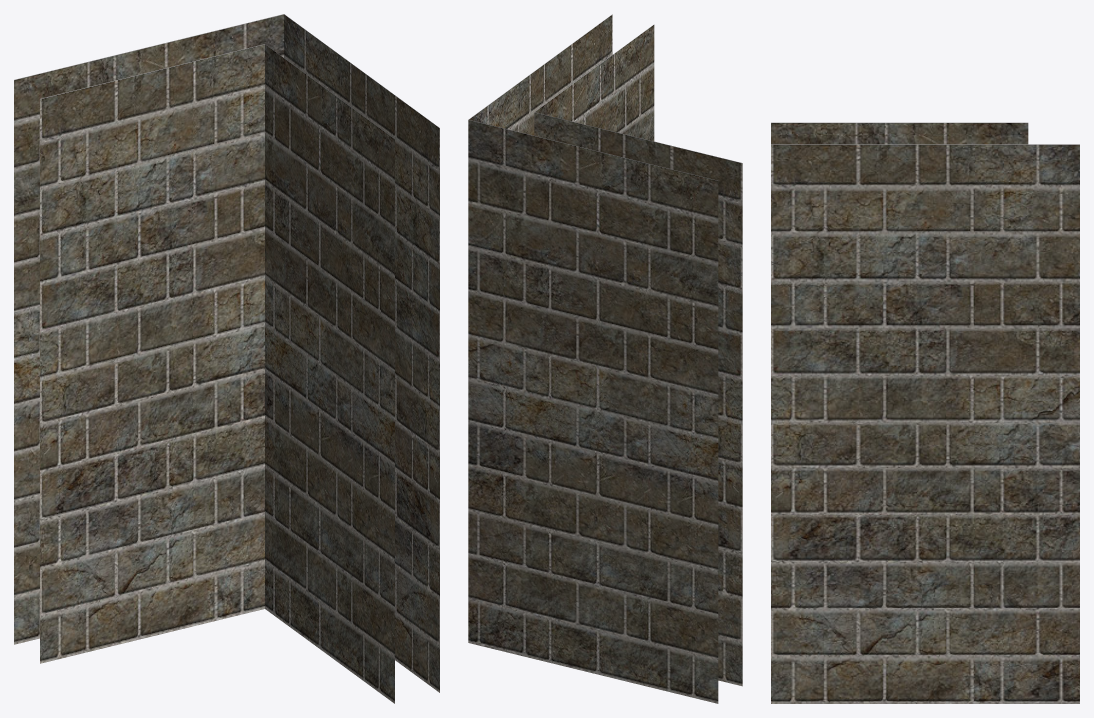
Rendered from ARC1010207.fbx.
3 renders of one model, left to right at view 1: azimuth 30°, elevation 25°; view 2: azimuth 150°, elevation 25°; view 3: azimuth 270°, elevation 25°, orthographic. The views are drawn at different scales.
Visible parts, largest first — view 1: smARC1010207; view 2: smARC1010207; view 3: smARC1010207.
Part boxes in pixels (bbox=[...]): smARC1010207: bbox=[14, 14, 439, 703]; smARC1010207: bbox=[468, 14, 742, 703]; smARC1010207: bbox=[771, 122, 1079, 703].
Size of the model in its own units: 134 by 268 by 134.
1 material, 1 textured.
